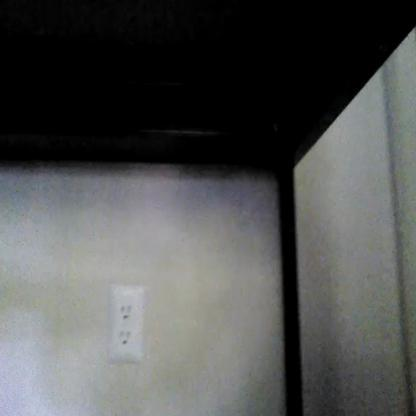OUTLET: (109, 284, 144, 360)
